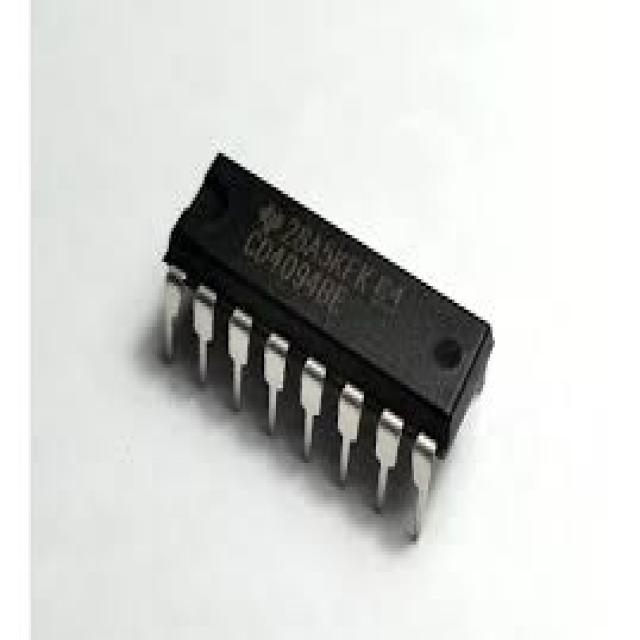IC: (157, 149, 496, 545)
